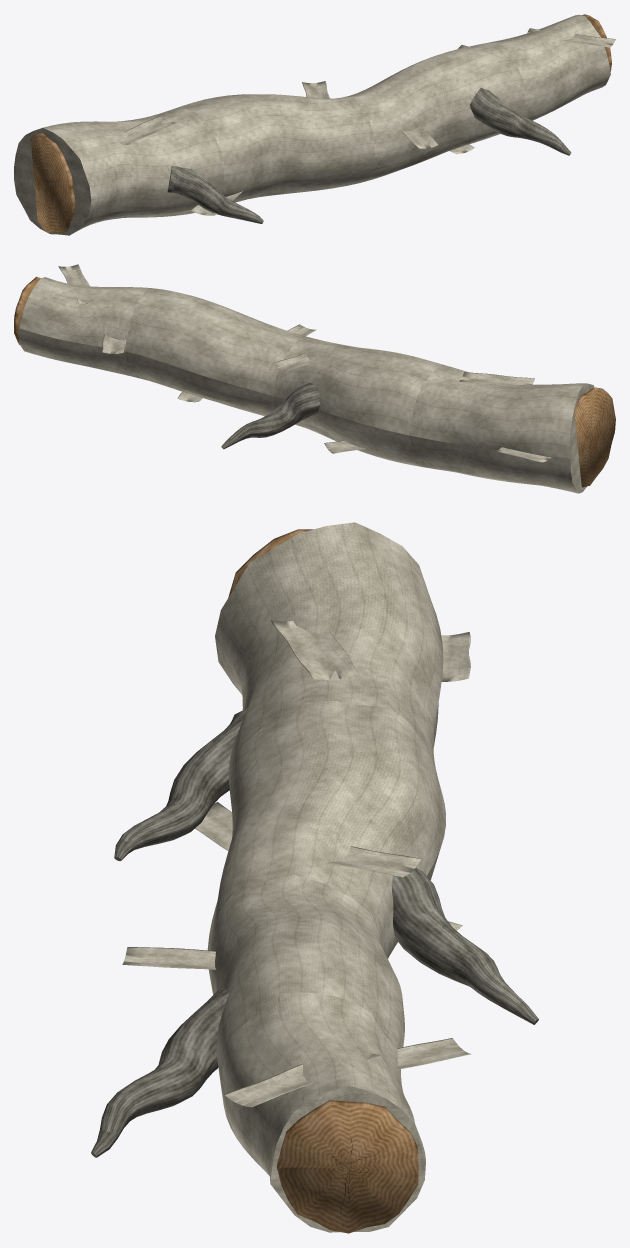
The model's file is PZ_FallenWood_03_Birch_Windfall_2p5m.glb.
3 views of the same model, one above another, from view 1: azimuth 30°, elevation 25°; view 2: azimuth 150°, elevation 25°; view 3: azimuth 270°, elevation 25° (orthographic). The views are drawn at different scales.
Visible parts, largest first — view 1: 03_Birch_Windfall_2p5m_PaleBarkTrunk_MESH, 03_Birch_Windfall_2p5m_SawEndgrain_0_MESH, 03_Birch_Windfall_2p5m_BranchBreak_2_MESH, 03_Birch_Windfall_2p5m_BranchBreak_0_MESH, 03_Birch_Windfall_2p5m_PeelingBark_01_MESH, 03_Birch_Windfall_2p5m_PeelingBark_08_MESH, 03_Birch_Windfall_2p5m_PeelingBark_05_MESH, 03_Birch_Windfall_2p5m_PeelingBark_04_MESH; view 2: 03_Birch_Windfall_2p5m_PaleBarkTrunk_MESH, 03_Birch_Windfall_2p5m_SawEndgrain_0_MESH, 03_Birch_Windfall_2p5m_BranchBreak_1_MESH, 03_Birch_Windfall_2p5m_PeelingBark_01_MESH, 03_Birch_Windfall_2p5m_SawEndgrain_1_MESH, 03_Birch_Windfall_2p5m_PeelingBark_08_MESH, 03_Birch_Windfall_2p5m_PeelingBark_04_MESH, 03_Birch_Windfall_2p5m_PeelingBark_07_MESH, 03_Birch_Windfall_2p5m_PeelingBark_03_MESH, 03_Birch_Windfall_2p5m_PeelingBark_00_MESH; view 3: 03_Birch_Windfall_2p5m_PaleBarkTrunk_MESH, 03_Birch_Windfall_2p5m_SawEndgrain_1_MESH, 03_Birch_Windfall_2p5m_BranchBreak_1_MESH, 03_Birch_Windfall_2p5m_BranchBreak_2_MESH, 03_Birch_Windfall_2p5m_BranchBreak_0_MESH, 03_Birch_Windfall_2p5m_PeelingBark_01_MESH, 03_Birch_Windfall_2p5m_PeelingBark_05_MESH, 03_Birch_Windfall_2p5m_PeelingBark_08_MESH, 03_Birch_Windfall_2p5m_PeelingBark_04_MESH, 03_Birch_Windfall_2p5m_PeelingBark_07_MESH, 03_Birch_Windfall_2p5m_PeelingBark_00_MESH, 03_Birch_Windfall_2p5m_PeelingBark_02_MESH.
Boxes of the visible parts, bbox=[...] form: 03_Birch_Windfall_2p5m_PaleBarkTrunk_MESH: bbox=[14, 14, 610, 235]; 03_Birch_Windfall_2p5m_SawEndgrain_0_MESH: bbox=[30, 133, 75, 233]; 03_Birch_Windfall_2p5m_BranchBreak_2_MESH: bbox=[470, 88, 571, 155]; 03_Birch_Windfall_2p5m_BranchBreak_0_MESH: bbox=[167, 165, 263, 223]; 03_Birch_Windfall_2p5m_PeelingBark_01_MESH: bbox=[120, 115, 177, 144]; 03_Birch_Windfall_2p5m_PeelingBark_08_MESH: bbox=[527, 28, 615, 47]; 03_Birch_Windfall_2p5m_PeelingBark_05_MESH: bbox=[401, 126, 438, 148]; 03_Birch_Windfall_2p5m_PeelingBark_04_MESH: bbox=[302, 81, 329, 98]; 03_Birch_Windfall_2p5m_PaleBarkTrunk_MESH: bbox=[18, 277, 594, 493]; 03_Birch_Windfall_2p5m_SawEndgrain_0_MESH: bbox=[574, 387, 615, 487]; 03_Birch_Windfall_2p5m_BranchBreak_1_MESH: bbox=[221, 382, 320, 449]; 03_Birch_Windfall_2p5m_PeelingBark_01_MESH: bbox=[459, 372, 534, 386]; 03_Birch_Windfall_2p5m_SawEndgrain_1_MESH: bbox=[14, 276, 40, 344]; 03_Birch_Windfall_2p5m_PeelingBark_08_MESH: bbox=[58, 264, 89, 303]; 03_Birch_Windfall_2p5m_PeelingBark_04_MESH: bbox=[272, 353, 316, 371]; 03_Birch_Windfall_2p5m_PeelingBark_07_MESH: bbox=[102, 334, 126, 353]; 03_Birch_Windfall_2p5m_PeelingBark_03_MESH: bbox=[324, 440, 365, 453]; 03_Birch_Windfall_2p5m_PeelingBark_00_MESH: bbox=[495, 447, 550, 462]; 03_Birch_Windfall_2p5m_PaleBarkTrunk_MESH: bbox=[207, 522, 445, 1232]; 03_Birch_Windfall_2p5m_SawEndgrain_1_MESH: bbox=[277, 1100, 418, 1233]; 03_Birch_Windfall_2p5m_BranchBreak_1_MESH: bbox=[392, 867, 538, 1024]; 03_Birch_Windfall_2p5m_BranchBreak_2_MESH: bbox=[91, 987, 230, 1157]; 03_Birch_Windfall_2p5m_BranchBreak_0_MESH: bbox=[114, 708, 247, 860]; 03_Birch_Windfall_2p5m_PeelingBark_01_MESH: bbox=[270, 620, 358, 680]; 03_Birch_Windfall_2p5m_PeelingBark_05_MESH: bbox=[122, 947, 215, 969]; 03_Birch_Windfall_2p5m_PeelingBark_08_MESH: bbox=[224, 1052, 382, 1107]; 03_Birch_Windfall_2p5m_PeelingBark_04_MESH: bbox=[326, 846, 421, 876]; 03_Birch_Windfall_2p5m_PeelingBark_07_MESH: bbox=[396, 1038, 471, 1069]; 03_Birch_Windfall_2p5m_PeelingBark_00_MESH: bbox=[441, 632, 470, 681]; 03_Birch_Windfall_2p5m_PeelingBark_02_MESH: bbox=[195, 802, 232, 850].
Size of the model in its own units: 2.58 by 0.4945 by 0.895.
Materials: 3 (3 with a texture image).
